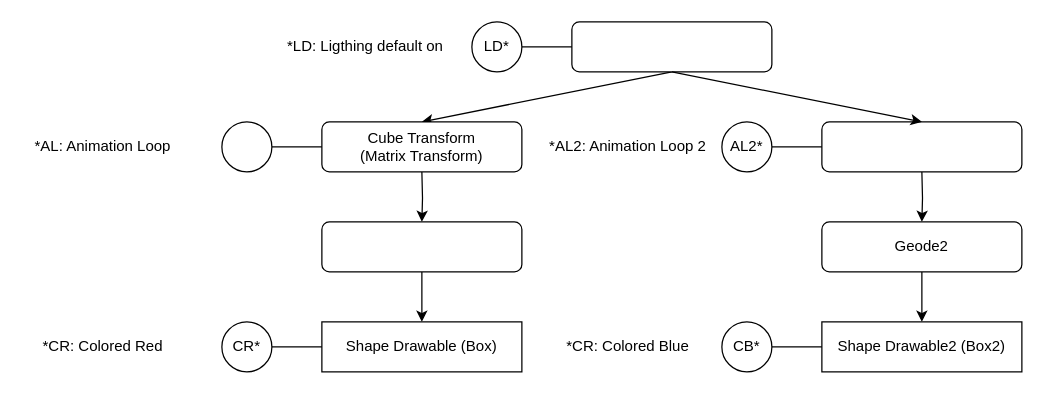
Image size: 1044x394. Some labels were removed from this diagram. The shapes that lost their labels are listed below. From the top down, each one's box as (x1, y1, x2, y2) in pixels, then its label:
(571, 21, 772, 72): Root node
(221, 121, 272, 172): AL*
(821, 121, 1022, 172): Cube Transform2 (Matrix Transform)
(321, 221, 522, 272): Geode
